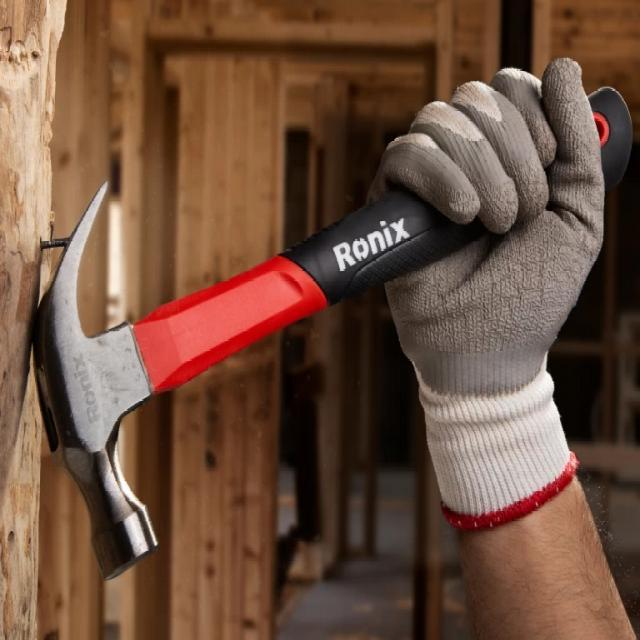hammer: (27, 78, 637, 590)
